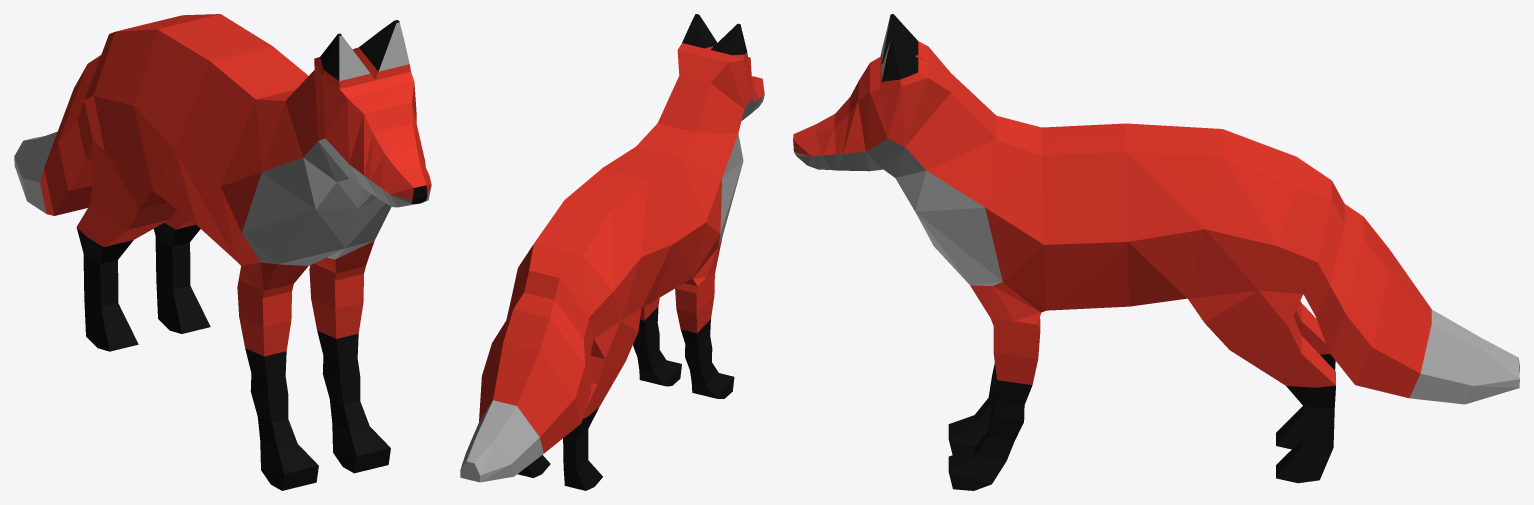
The model's file is redfox.fbx.
3 renders of one model, left to right at view 1: azimuth 30°, elevation 25°; view 2: azimuth 150°, elevation 25°; view 3: azimuth 270°, elevation 25°, orthographic. The views are drawn at different scales.
Parts seen in each view (by area): view 1: RedFox; view 2: RedFox; view 3: RedFox.
Boxes of the visible parts, bbox=[...] form: RedFox: bbox=[14, 14, 431, 490]; RedFox: bbox=[460, 14, 764, 490]; RedFox: bbox=[793, 14, 1519, 490].
Size of the model in its own units: 0.1761 by 0.6096 by 0.9137.
